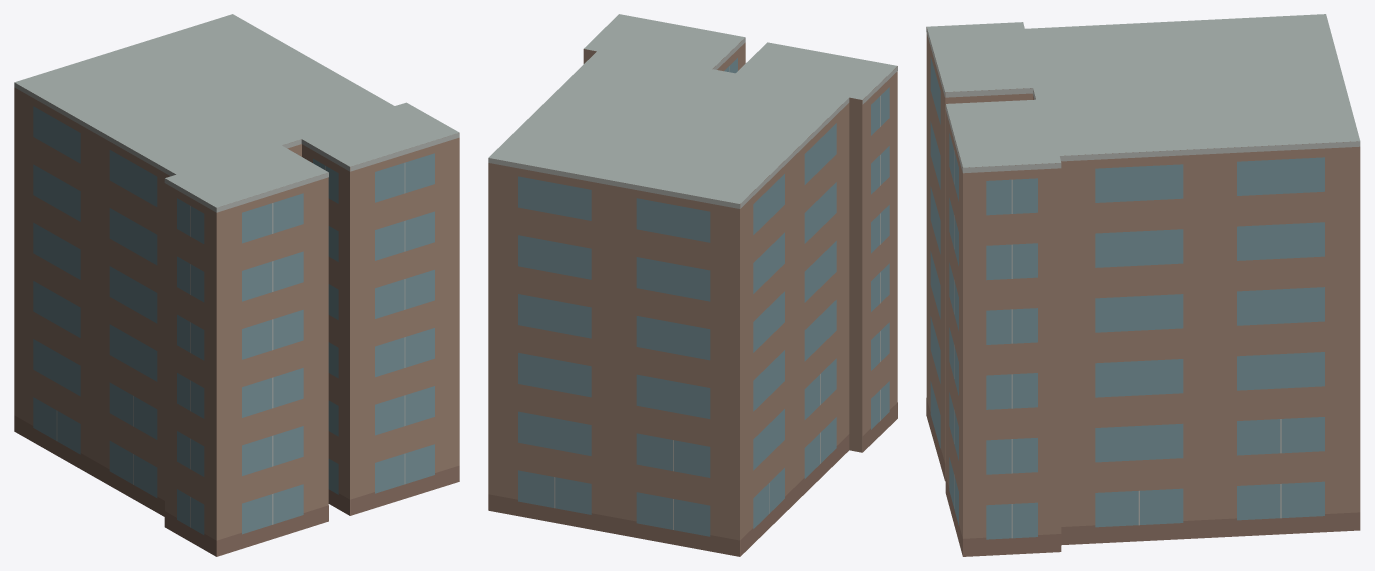
The model's file is survey-upis-32561736.glb.
3 views of the same model, side by side, from view 1: azimuth 30°, elevation 25°; view 2: azimuth 150°, elevation 25°; view 3: azimuth 270°, elevation 25° (orthographic). The views are drawn at different scales.
Parts seen in each view (by area): view 1: survey-upis-32561736.tmp; view 2: survey-upis-32561736.tmp; view 3: survey-upis-32561736.tmp.
Part boxes in pixels (x1,y1,x2,y2): survey-upis-32561736.tmp: (14, 14, 459, 556); survey-upis-32561736.tmp: (488, 14, 897, 556); survey-upis-32561736.tmp: (926, 14, 1360, 556).
Bounding box in the file's own units: 14.67 × 17.3 × 17.49.
